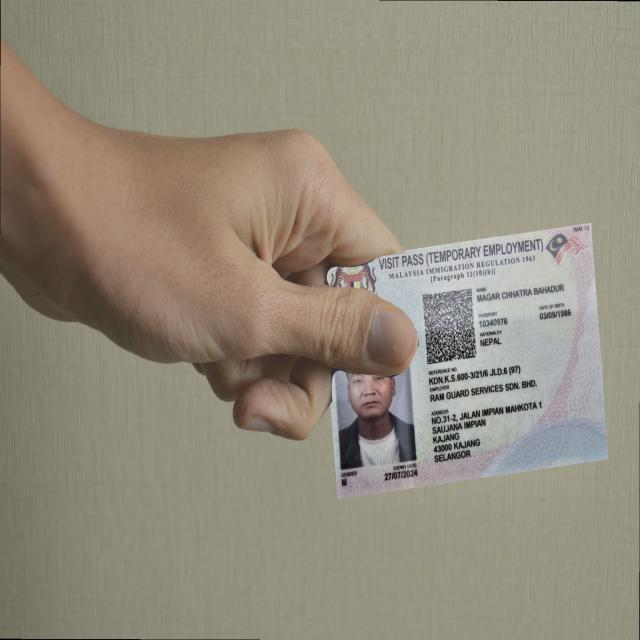ikad-temp: (326, 222, 609, 498)
